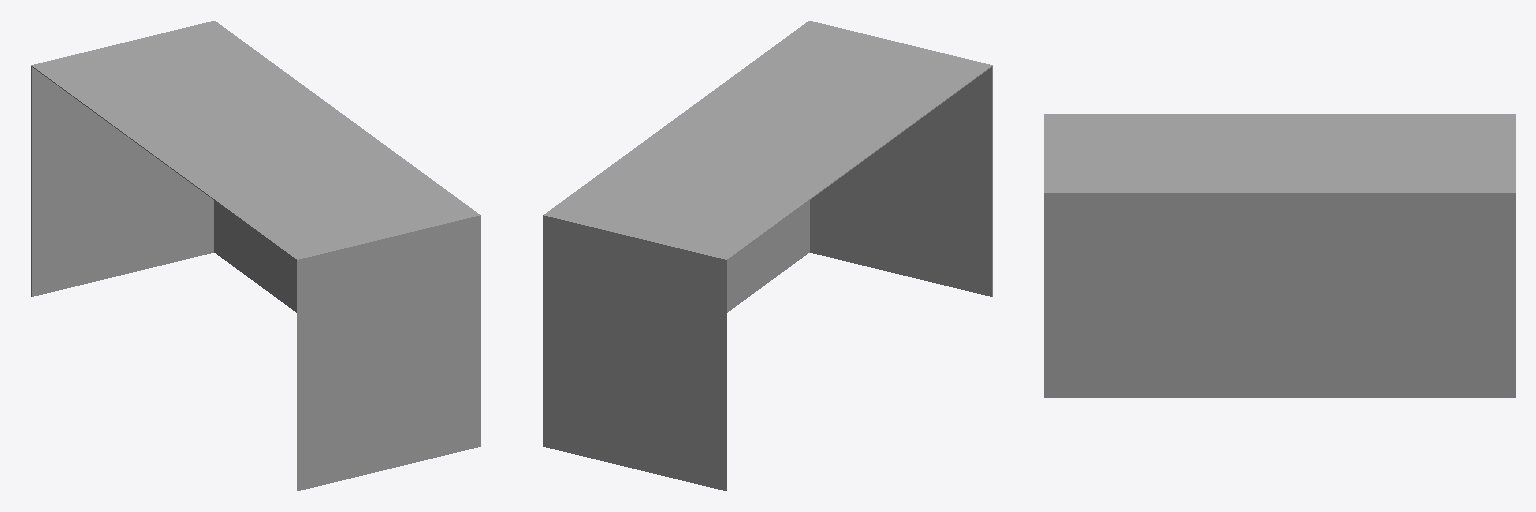
The robot description file, URDF, robot "sahne":
<?xml version="1.0" ?>
<robot name="sahne">

  <material name="silver">
    <color rgba="0.700 0.700 0.700 1.000"/>
  </material>

  <link name="base_link">
    <inertial>
      <origin xyz="0.0 6.88685208596713 -7.91185208596713" rpy="3.14159 0 0"/>
      <mass value="310.4675"/> <!-- 10'da bir oranında azaltıldı -->
      <inertia 
        ixx="8399.913295" 
        iyy="31067.620096" 
        izz="29497.826895" 
        ixy="0.0" 
        iyz="-1.119975" 
        ixz="0.0"/> <!-- 10'da bir oranında azaltıldı -->
    </inertial>

    <visual>
      <origin xyz="10 0 0" rpy="3.14159 0 1.570795"/>
      <geometry>
        <mesh filename="meshes/base_link_sahne.stl" scale="0.001 0.001 0.001"/> <!-- Ölçek küçültüldü -->
      </geometry>
      <material name="silver"/>
    </visual>

    <collision>
      <origin xyz="0 0 0" rpy="0 0 0"/>
      <geometry>
        <mesh filename="meshes/base_link_sahne.stl" scale="0.0001 0.0001 0.0001"/> <!-- Ölçek küçültüldü -->
      </geometry>
    </collision>
  </link>

</robot>

--- What the picture shows (computed from the rendered views, not written in the file) ---
Views: 3 orthographic renders of the robot side by side, from view 1: azimuth 30°, elevation 25°; view 2: azimuth 150°, elevation 25°; view 3: azimuth 270°, elevation 25°.
Model sahne with 1 links and 0 joints (none), rooted at base_link, posed all joints at 0.
Visible links, largest first — view 1: base_link; view 2: base_link; view 3: base_link.
Boxes of the visible links, x1,y1,x2,y2 form: base_link: (31, 21, 480, 490); base_link: (543, 21, 992, 490); base_link: (1044, 114, 1515, 397).
Bounding box of the posed robot: 10 × 25.1 × 12.05 m (x, y, z).
1 mesh visuals loaded from 1 distinct referenced files (1 binary STL).
